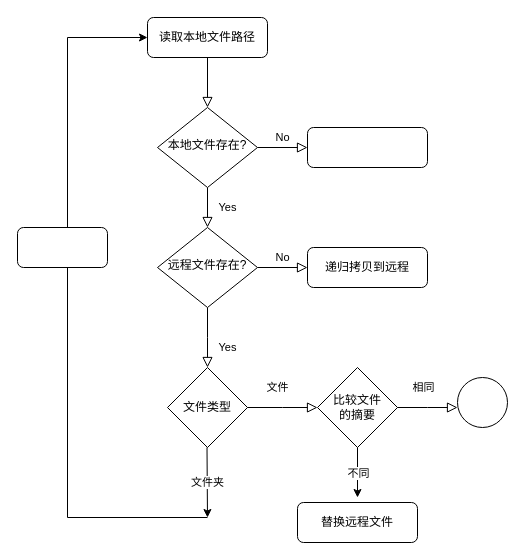
Some shapes in this 525 by 560 pixel diagram are drawn without their labels. The box of each missing label's shape, as (x1, y1, x2, y2) in pixels:
删除远程文件: (306, 126, 428, 168)
结束: (456, 376, 508, 428)
递归处理: (16, 226, 108, 268)
